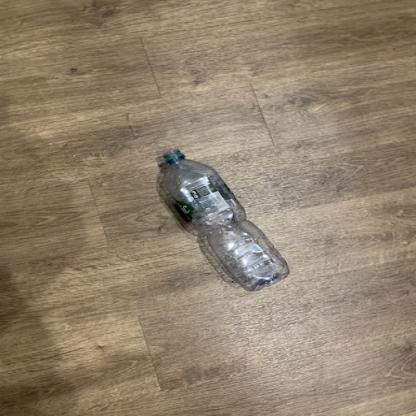trash: (157, 146, 288, 291)
